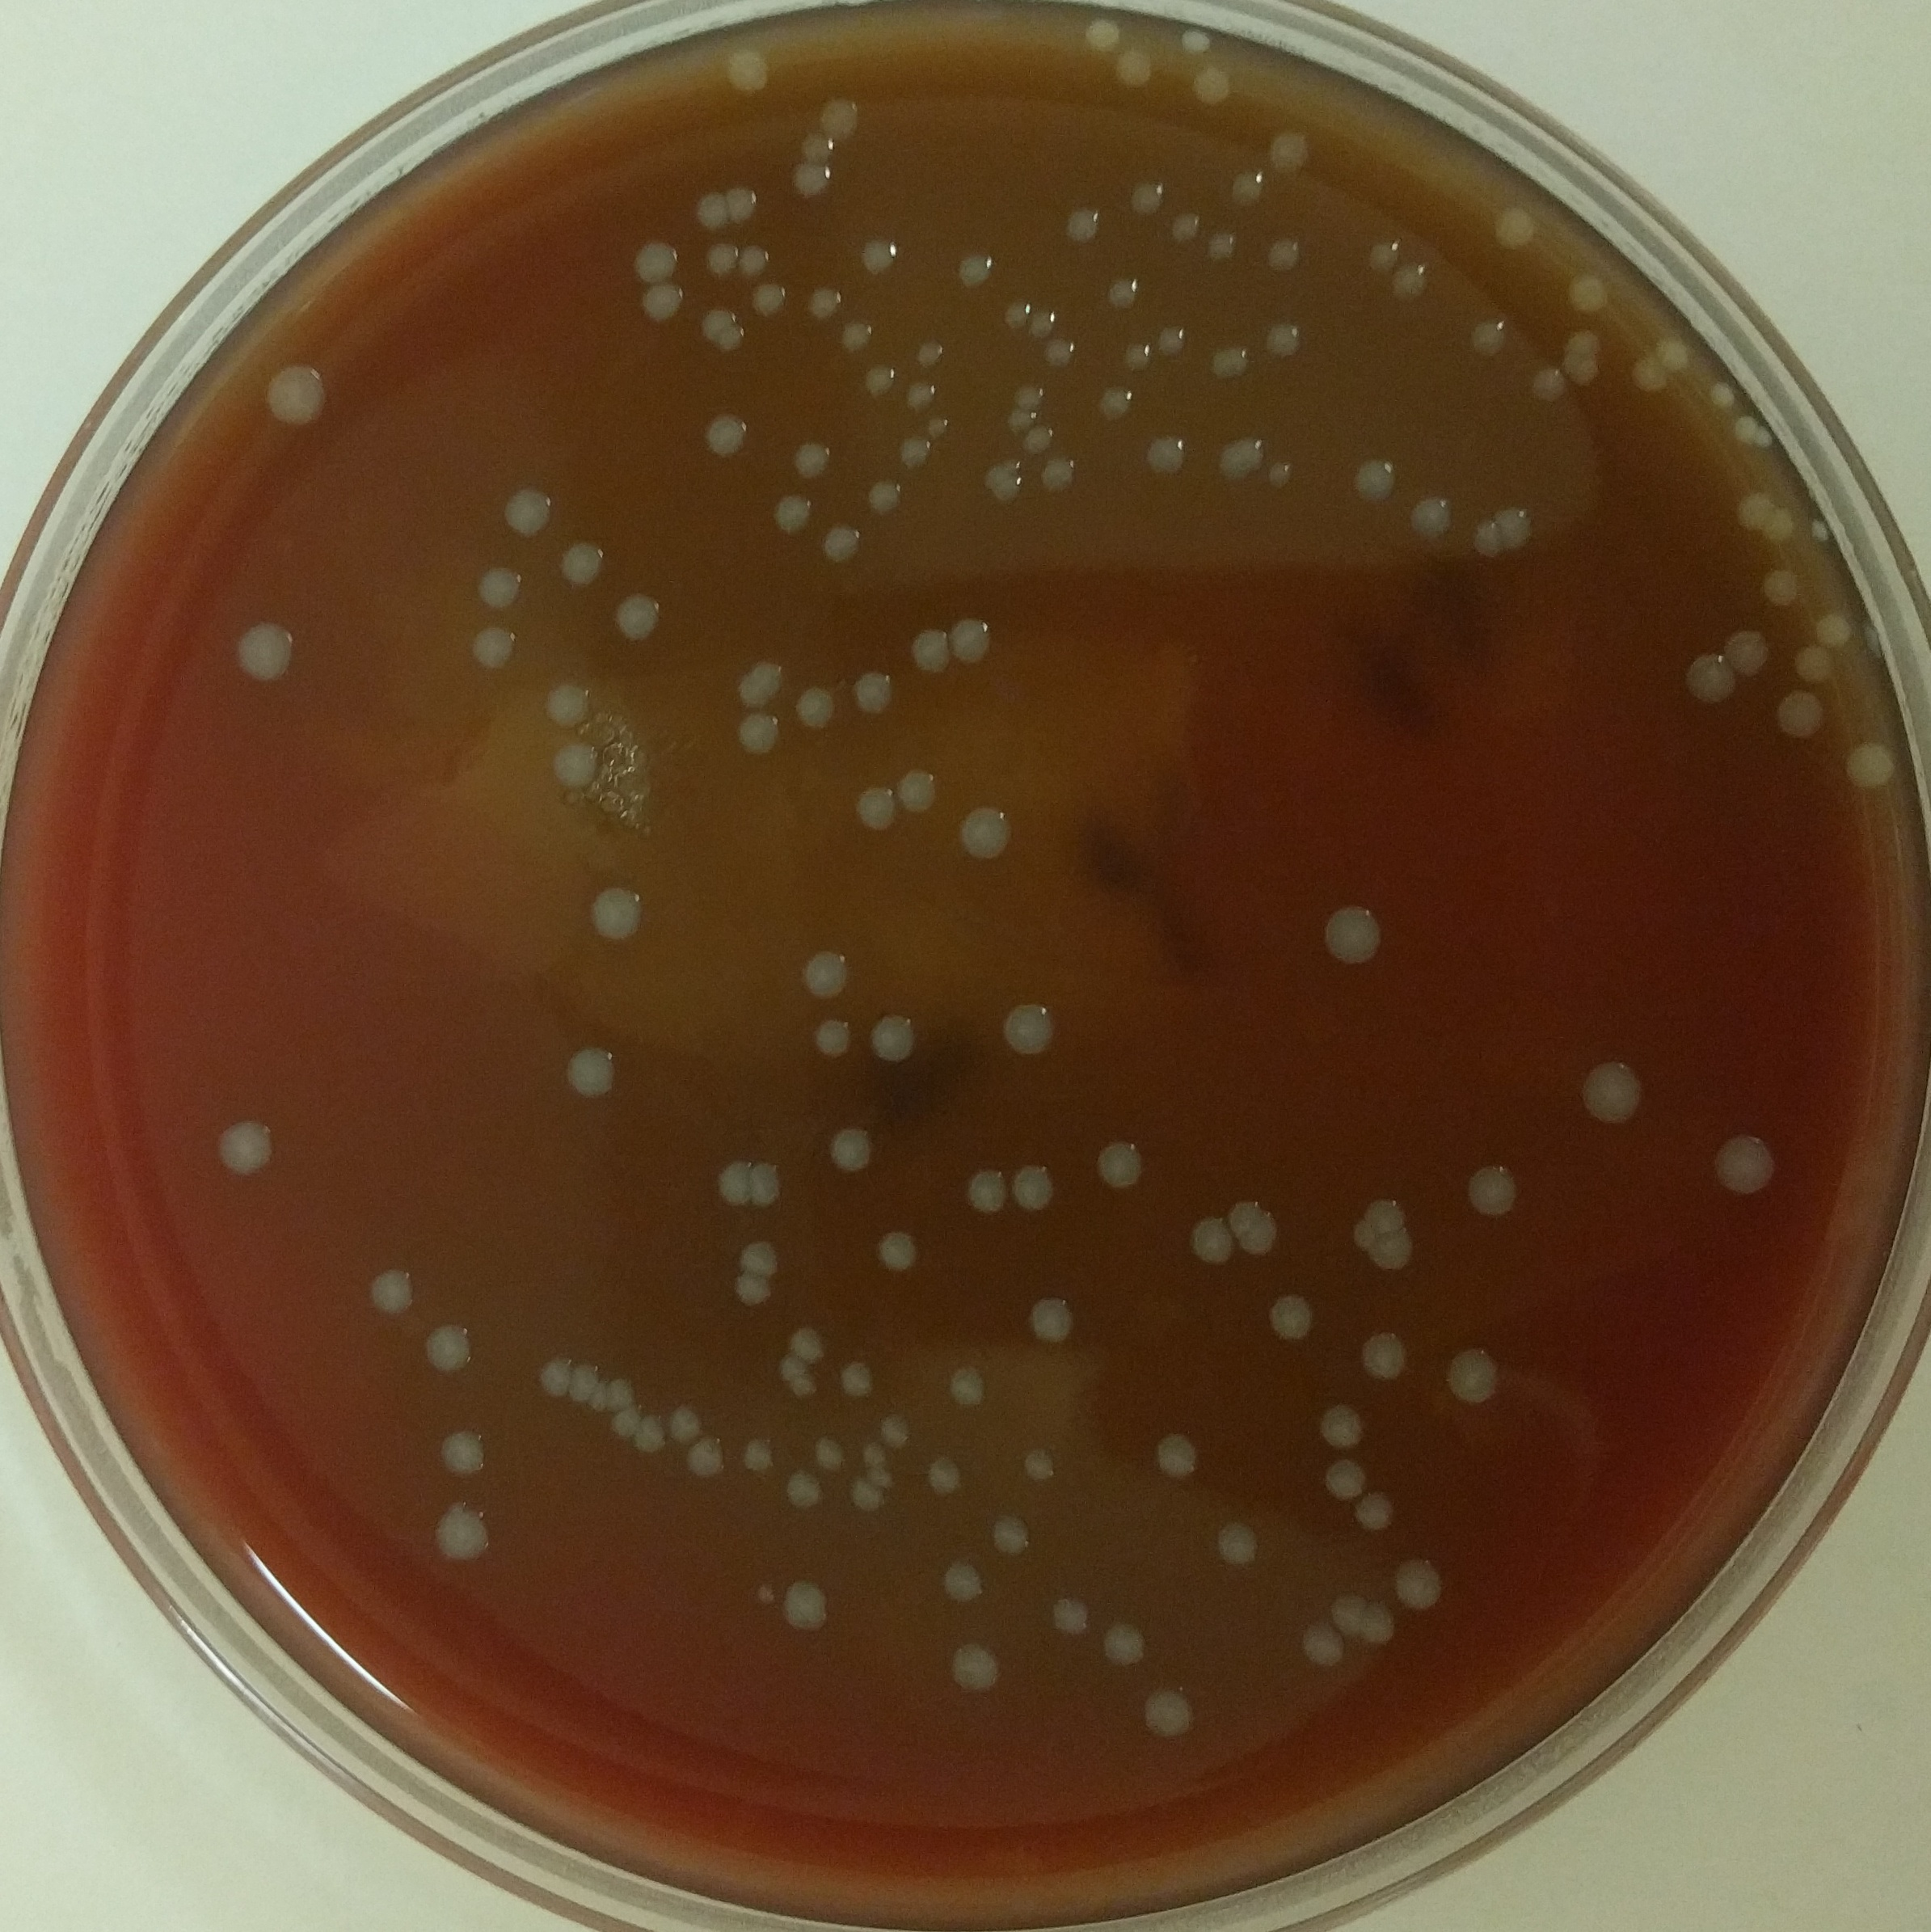sp14: (256, 350, 340, 433), (225, 614, 304, 685), (1574, 1054, 1650, 1123), (210, 1113, 286, 1180), (1317, 901, 1388, 970), (1708, 1131, 1781, 1196), (1768, 679, 1834, 747), (584, 879, 649, 947), (996, 996, 1063, 1060), (1441, 1341, 1507, 1405), (951, 801, 1015, 865), (555, 1040, 621, 1102), (1137, 1681, 1202, 1743), (1837, 731, 1903, 793), (605, 586, 668, 648), (773, 1573, 836, 1635), (861, 1005, 921, 1070), (1019, 1288, 1080, 1350), (431, 1506, 497, 1564), (462, 612, 523, 672), (1459, 1161, 1523, 1219), (819, 1118, 879, 1178), (1146, 1426, 1206, 1484), (796, 943, 856, 1001), (946, 1640, 1008, 1697), (361, 1263, 424, 1318), (720, 42, 776, 103), (553, 533, 614, 589), (806, 87, 868, 142), (1259, 1288, 1321, 1343), (433, 1422, 492, 1479), (500, 479, 559, 536), (1208, 1514, 1264, 1573), (695, 1152, 752, 1210), (472, 559, 532, 614), (532, 676, 592, 731), (1091, 1136, 1148, 1192), (939, 1550, 996, 1606), (1098, 1614, 1153, 1672), (421, 1322, 479, 1376), (1310, 1398, 1365, 1454), (854, 663, 909, 720), (697, 407, 753, 462), (868, 1223, 925, 1277), (1133, 428, 1190, 483), (1713, 469, 1768, 525), (806, 1008, 859, 1067), (1017, 1157, 1070, 1215), (1489, 202, 1547, 255), (1390, 1560, 1448, 1614), (1751, 559, 1804, 617), (1356, 1327, 1413, 1380), (1563, 329, 1609, 393), (730, 706, 785, 759), (1181, 1214, 1236, 1267), (1401, 488, 1454, 543), (630, 230, 688, 280), (1376, 1238, 1434, 1288), (847, 780, 900, 833), (1680, 653, 1735, 704), (1293, 1619, 1346, 1670), (1257, 226, 1310, 278), (1192, 64, 1243, 117), (1482, 502, 1535, 554), (895, 759, 946, 812), (677, 179, 729, 232), (953, 610, 1003, 665), (1347, 453, 1401, 502), (960, 1166, 1010, 1219), (1809, 591, 1858, 644), (1218, 430, 1266, 485), (1710, 626, 1767, 672), (1264, 127, 1316, 177), (1560, 269, 1611, 318), (1526, 357, 1577, 407), (904, 623, 955, 672), (766, 488, 819, 536), (792, 681, 845, 729), (773, 1467, 828, 1513), (819, 518, 868, 568), (988, 1507, 1038, 1557), (522, 1350, 569, 1401), (1043, 1587, 1091, 1638), (737, 653, 790, 699), (1367, 1184, 1420, 1230), (633, 278, 688, 322), (1464, 310, 1514, 357), (943, 1361, 992, 1408), (836, 1350, 884, 1399), (727, 179, 775, 228), (550, 745, 598, 794), (1238, 1212, 1284, 1263), (916, 1451, 967, 1497), (1056, 198, 1107, 244), (973, 456, 1022, 502), (785, 156, 835, 202), (836, 1484, 886, 1530), (1204, 338, 1256, 382), (683, 1437, 734, 1481), (1259, 313, 1309, 357), (695, 304, 746, 347), (787, 433, 838, 476), (1324, 1583, 1370, 1629), (1356, 1491, 1404, 1536), (1093, 382, 1141, 426), (1788, 644, 1839, 685), (730, 1235, 783, 1274), (1015, 1438, 1061, 1483), (863, 476, 912, 517), (1128, 170, 1172, 214), (1036, 456, 1080, 501), (1392, 260, 1434, 306), (858, 234, 904, 276), (730, 1270, 776, 1313), (951, 244, 999, 285), (693, 235, 741, 276), (790, 1320, 838, 1361), (1321, 1458, 1363, 1500), (808, 285, 849, 329), (752, 1157, 785, 1210), (1102, 267, 1142, 310), (1171, 211, 1211, 253), (1224, 168, 1266, 209), (1259, 446, 1300, 488), (1003, 364, 1045, 403), (902, 377, 944, 416), (1084, 11, 1119, 57), (1365, 1605, 1399, 1652), (1116, 327, 1156, 366), (633, 1414, 668, 1458), (739, 1433, 778, 1472), (1114, 50, 1153, 88), (748, 281, 789, 318), (1042, 333, 1082, 370), (895, 437, 934, 474), (914, 338, 953, 375), (838, 324, 877, 361), (1155, 320, 1194, 357), (1630, 354, 1666, 395), (859, 370, 897, 407), (1204, 223, 1243, 258), (812, 1431, 845, 1472), (875, 1412, 914, 1445), (667, 1408, 706, 1442), (568, 1359, 596, 1405), (1367, 235, 1401, 272), (988, 297, 1027, 329), (1655, 336, 1691, 370), (1176, 27, 1217, 55), (1020, 425, 1057, 455), (741, 239, 771, 276), (607, 1408, 642, 1438), (783, 1380, 826, 1405), (1768, 506, 1795, 545), (861, 1465, 897, 1491), (1229, 1191, 1259, 1221), (1733, 412, 1756, 449), (776, 1355, 810, 1380), (1706, 382, 1735, 410), (1351, 1221, 1378, 1251), (608, 1375, 631, 1408), (1029, 308, 1056, 336), (1010, 405, 1038, 428), (861, 1445, 891, 1467), (1756, 425, 1775, 455), (925, 416, 950, 437), (757, 1580, 776, 1606), (594, 1378, 608, 1412)
